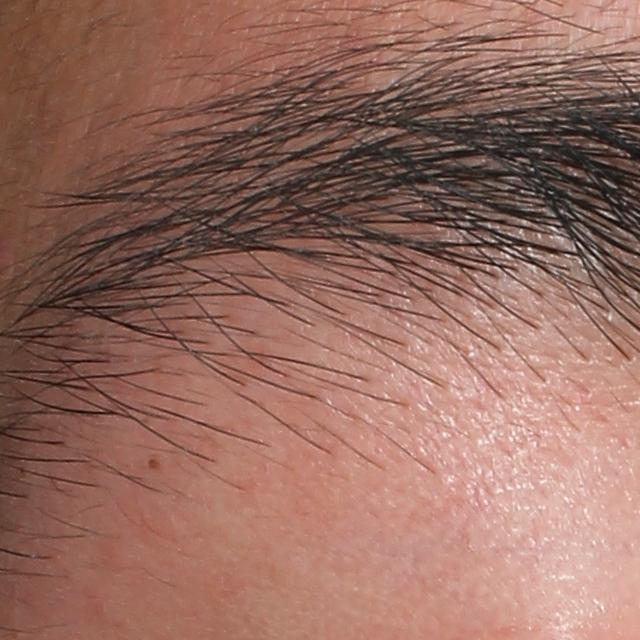nevus: (146, 457, 163, 471)
